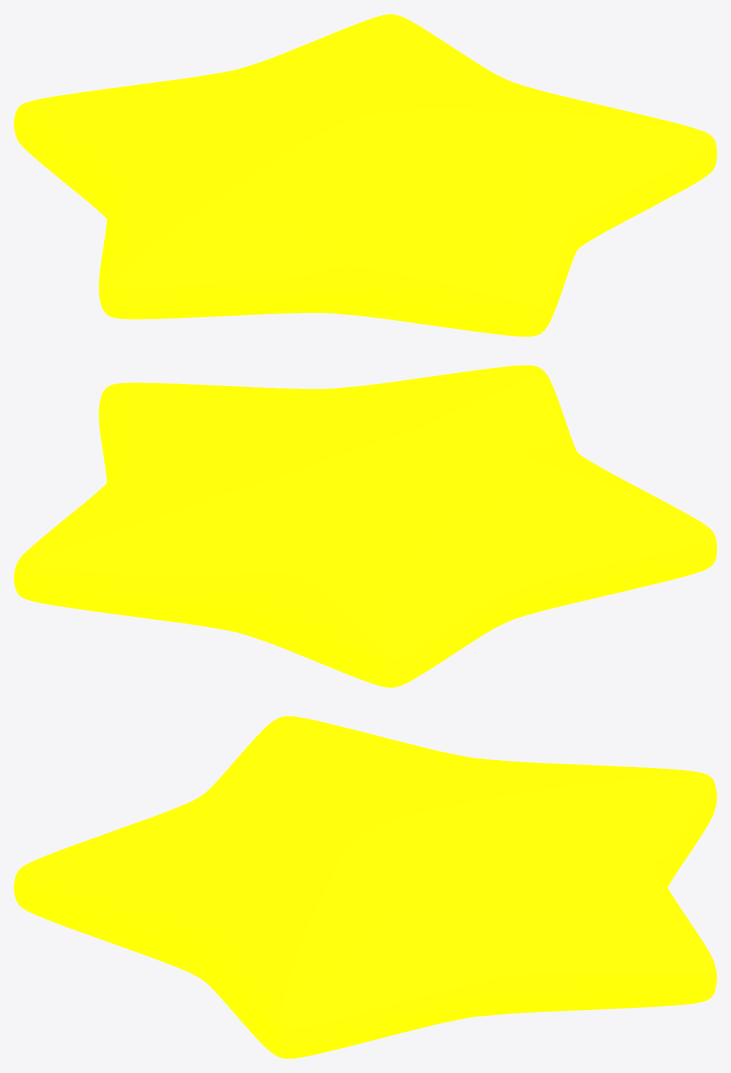
The model's file is glowing_star.glb.
3 renders of one model, top to bottom at view 1: azimuth 30°, elevation 25°; view 2: azimuth 150°, elevation 25°; view 3: azimuth 270°, elevation 25°, orthographic. The views are drawn at different scales.
Parts seen in each view (by area): view 1: Star; view 2: Star; view 3: Star.
Boxes of the visible parts, bbox=[...] form: Star: bbox=[14, 14, 716, 336]; Star: bbox=[14, 365, 716, 687]; Star: bbox=[14, 716, 716, 1058].
Bounding box in the file's own units: 1.79 × 0.3679 × 1.71.
